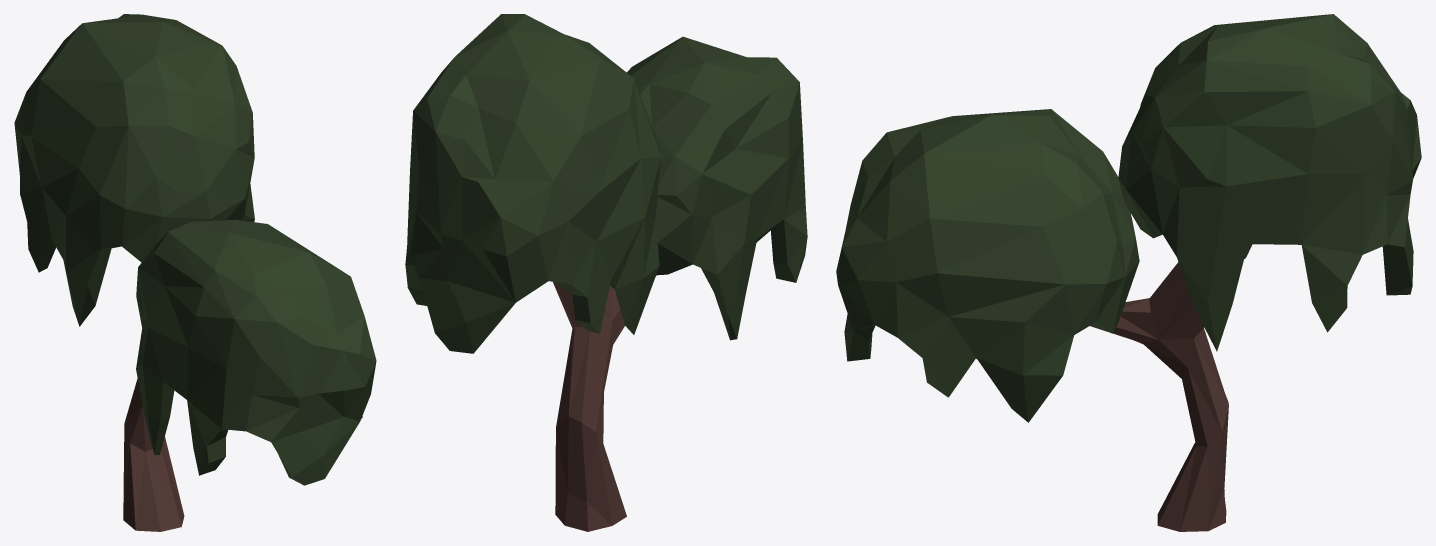
The model's file is Willow_5.glb.
3 renders of one model, left to right at view 1: azimuth 30°, elevation 25°; view 2: azimuth 150°, elevation 25°; view 3: azimuth 270°, elevation 25°, orthographic. The views are drawn at different scales.
Visible parts, largest first — view 1: Willow_5_Cube.046; view 2: Willow_5_Cube.046; view 3: Willow_5_Cube.046.
Part boxes in pixels (<box>): Willow_5_Cube.046: <box>14,14,376,531</box>; Willow_5_Cube.046: <box>405,14,807,531</box>; Willow_5_Cube.046: <box>836,14,1421,531</box>.
Size of the model in its own units: 0.9949 by 2.41 by 2.49.
